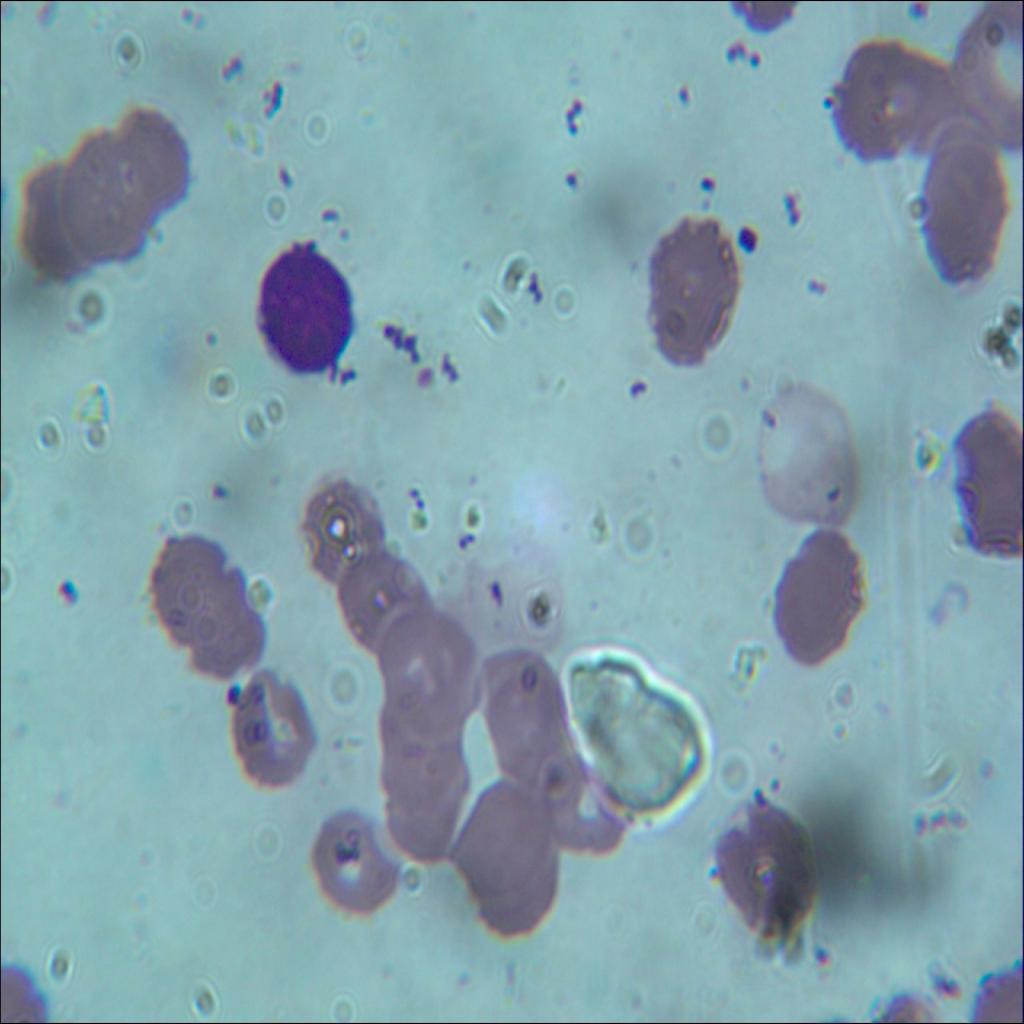Eritrosit: (458, 774, 566, 929), (716, 798, 816, 965), (376, 601, 486, 734), (648, 218, 744, 368), (772, 522, 866, 668), (938, 406, 1024, 552), (921, 144, 1006, 285), (64, 132, 154, 262), (486, 652, 568, 785), (226, 669, 316, 787), (368, 704, 474, 802), (16, 159, 99, 282), (958, 2, 1024, 153), (309, 808, 399, 918), (343, 541, 428, 654), (840, 44, 922, 161), (538, 758, 630, 856), (114, 102, 192, 216), (383, 766, 468, 870), (300, 476, 378, 588), (902, 52, 975, 168), (152, 529, 230, 628), (186, 584, 268, 678)
Limfoblast: (254, 239, 356, 375)
Platelet: (201, 473, 241, 515), (622, 368, 656, 411), (733, 218, 766, 262), (406, 357, 438, 399), (808, 84, 842, 118), (668, 75, 695, 111), (216, 678, 246, 708), (694, 174, 718, 204), (561, 159, 579, 197), (906, 0, 930, 22)
